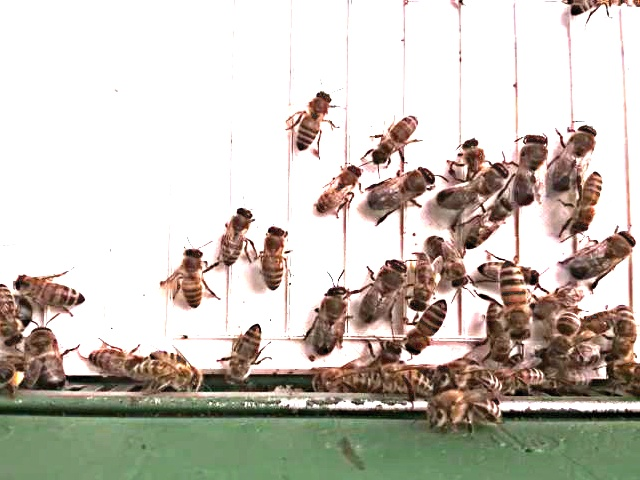Drone: (567, 224, 639, 280), (549, 119, 601, 193), (357, 254, 411, 325), (435, 158, 510, 209), (367, 162, 439, 213), (514, 127, 553, 208), (313, 280, 354, 357), (23, 323, 68, 390)
Worker: (285, 83, 340, 152), (567, 167, 618, 235), (215, 322, 271, 382), (18, 264, 88, 311), (497, 258, 536, 342), (167, 240, 215, 307), (462, 194, 518, 249), (422, 234, 476, 291), (313, 160, 365, 218), (219, 201, 262, 271), (371, 113, 426, 167), (406, 293, 452, 356), (133, 356, 206, 389), (262, 218, 293, 295), (603, 301, 640, 365), (409, 253, 440, 312), (313, 367, 380, 394), (548, 307, 582, 353)
